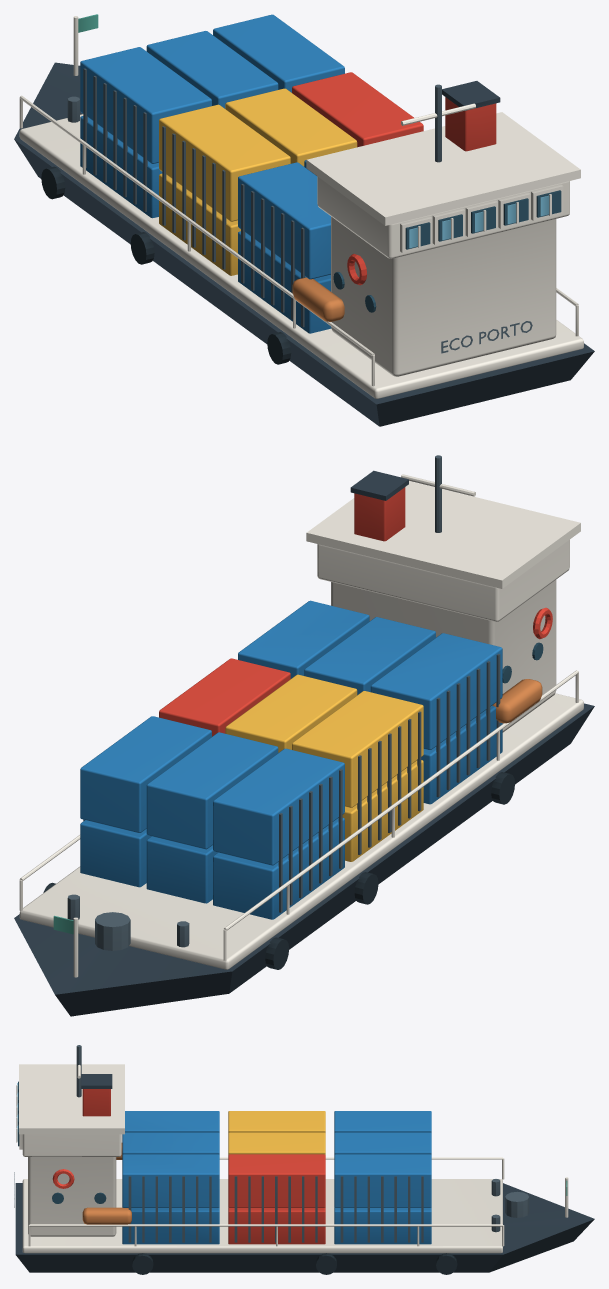
The model's file is cargo-ship.glb.
The picture shows the model from 3 angles, top to bottom: view 1: azimuth 30°, elevation 25°; view 2: azimuth 150°, elevation 25°; view 3: azimuth 270°, elevation 25°; orthographic projection. The views are drawn at different scales.
Parts seen in each view (by area): view 1: deck, cargo boxes, navy hull, cargo boxes.006, mast, cargo boxes.010, blue glazing, rubber fender, lifeboat, reflection; view 2: cargo boxes, deck, navy hull, cargo boxes.006, mast, cargo boxes.010, rubber fender, lifeboat; view 3: deck, cargo boxes, navy hull, cargo boxes.010, mast, cargo boxes.006, rubber fender, lifeboat.
Boxes of the visible parts, x1,y1,x2,y2 form: deck: (19, 16, 583, 398); cargo boxes: (80, 14, 344, 333); navy hull: (14, 62, 594, 426); cargo boxes.006: (159, 88, 357, 275); mast: (67, 68, 532, 353); cargo boxes.010: (292, 72, 496, 285); blue glazing: (333, 190, 561, 312); rubber fender: (41, 166, 291, 364); lifeboat: (292, 277, 344, 321); reflection: (409, 195, 549, 248); cargo boxes: (80, 600, 502, 919); deck: (19, 474, 583, 977); navy hull: (14, 470, 594, 1016); cargo boxes.006: (225, 674, 423, 861); mast: (67, 455, 500, 950); cargo boxes.010: (159, 487, 552, 736); rubber fender: (43, 772, 514, 969); lifeboat: (492, 679, 542, 723); deck: (16, 1064, 568, 1253); cargo boxes: (122, 1111, 431, 1244); navy hull: (15, 1074, 594, 1272); cargo boxes.010: (52, 1089, 325, 1244); mast: (14, 1045, 529, 1242); cargo boxes.006: (228, 1111, 325, 1154); rubber fender: (132, 1253, 457, 1274); lifeboat: (82, 1143, 131, 1224).
Bounding box in the file's own units: 2.55 × 3.05 × 8.22.
